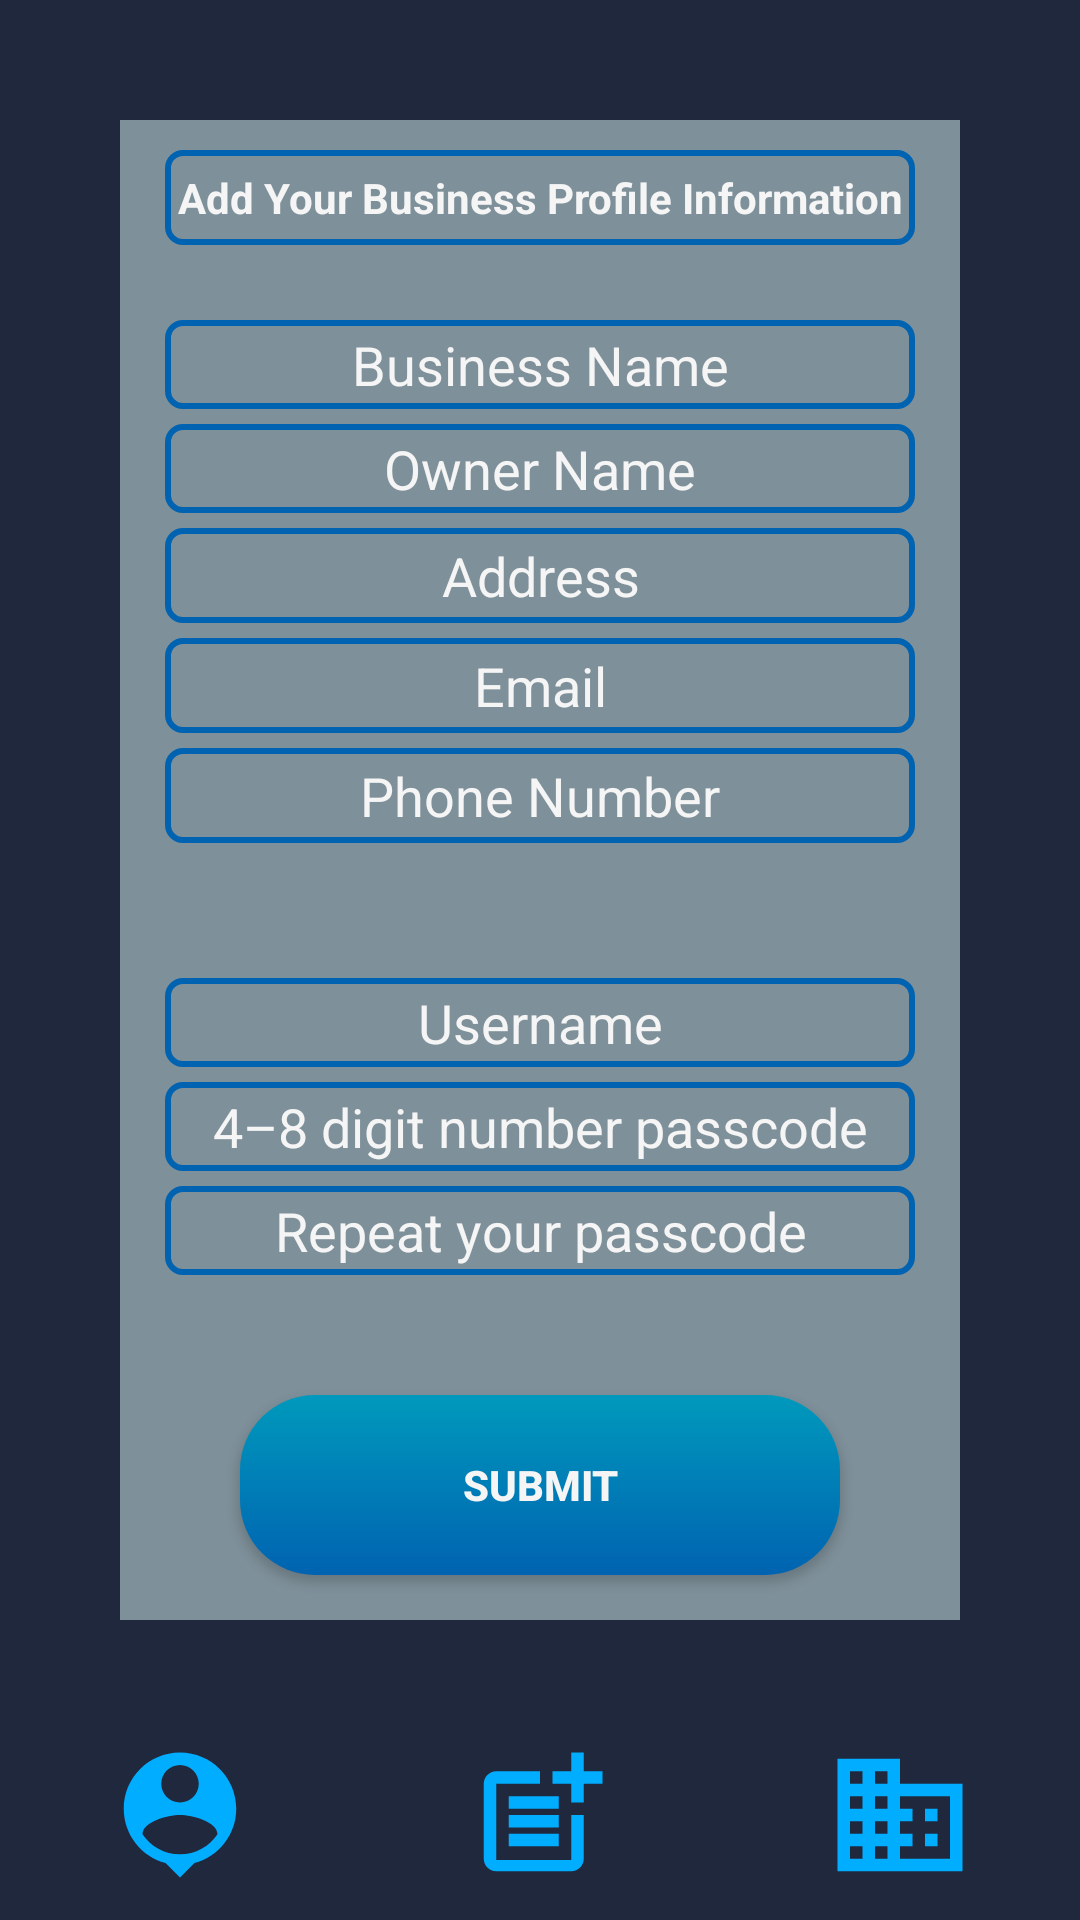

Icon bounding boxes for this 1080w x 1920h phone screenshot, format (x1,y1,x2,y2):
Booking Page ImageView: (483,1752,603,1872)
Business Needs ImageView: (837,1758,963,1872)
Personal Page Image: (123,1752,237,1878)
